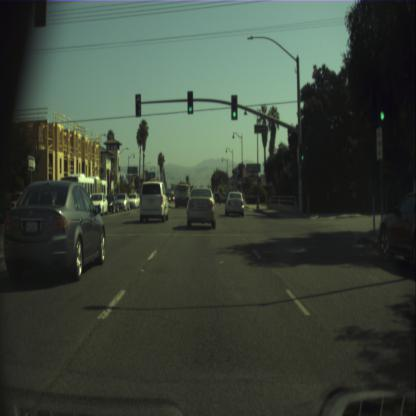Green: (378, 88, 386, 124), (230, 94, 238, 119), (187, 90, 193, 114), (300, 142, 304, 162)
RedLeft: (134, 94, 142, 116)
